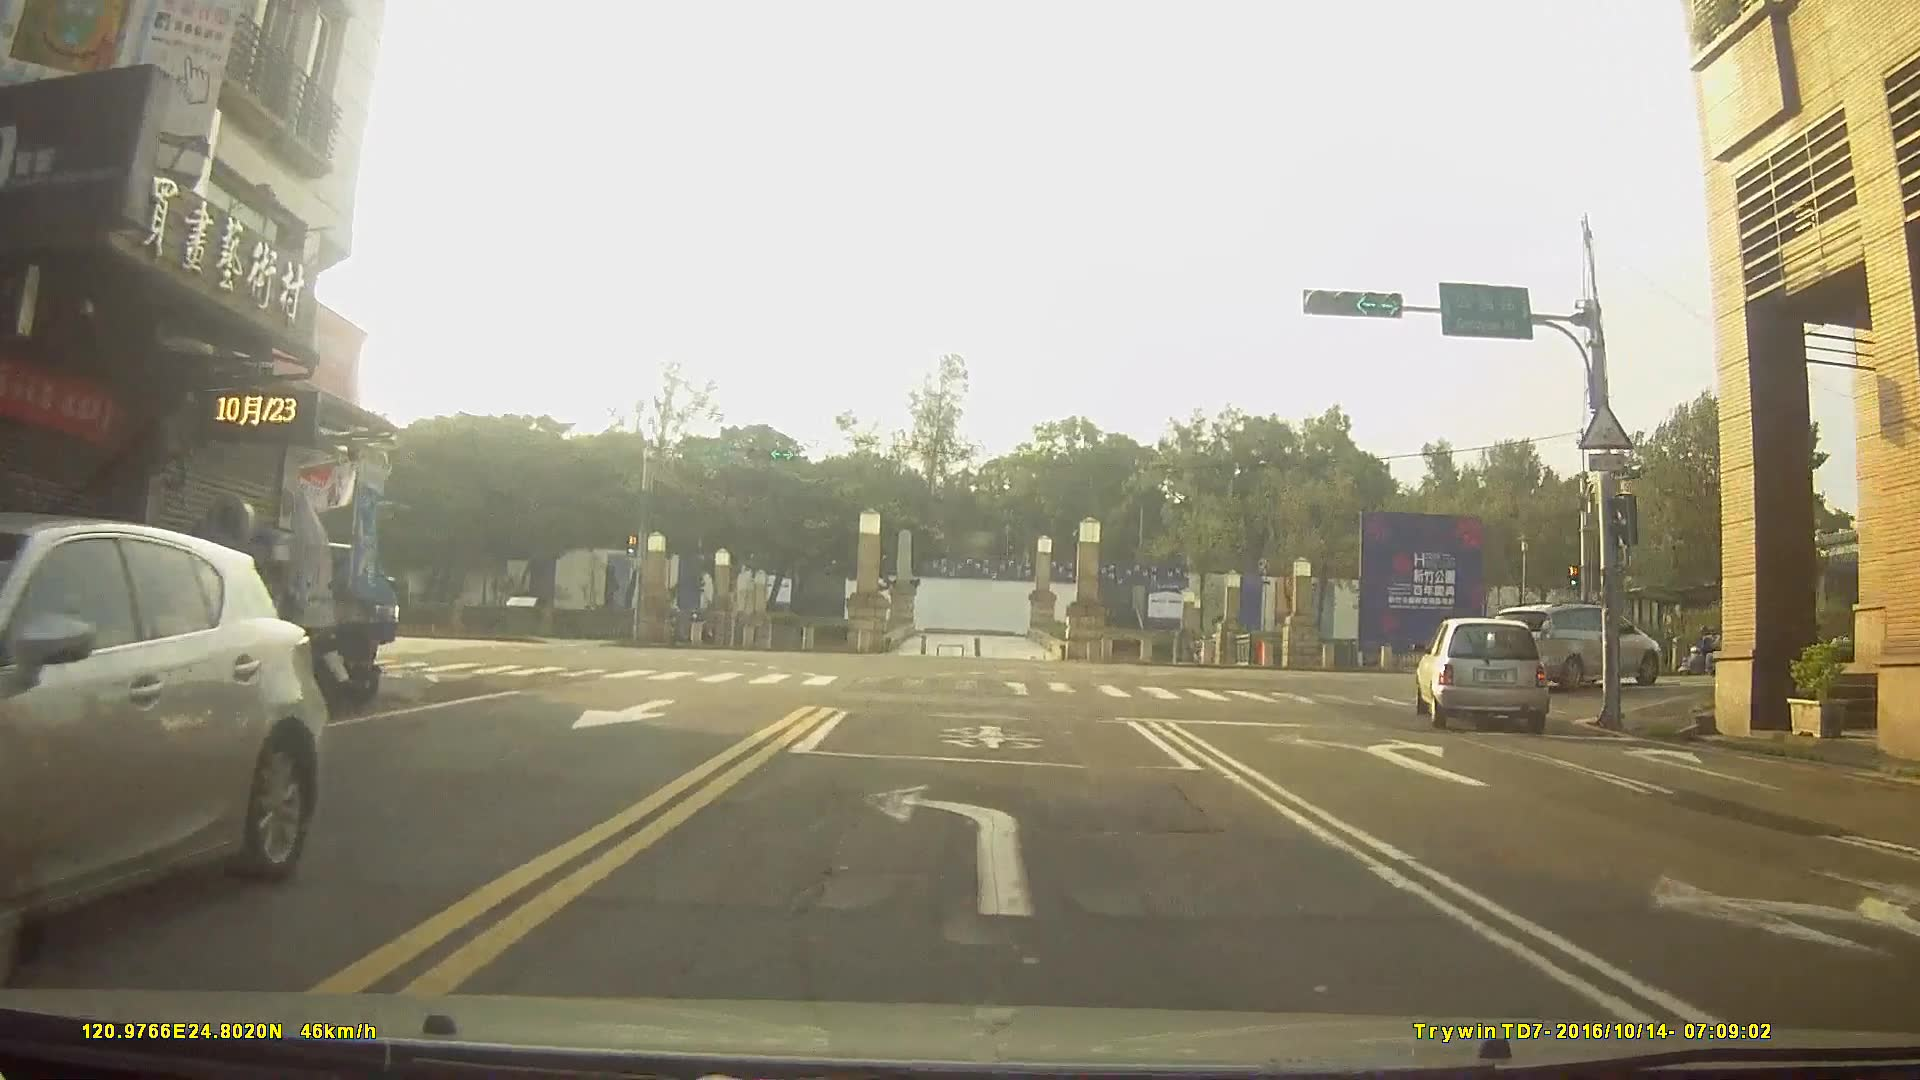vehicle: (0, 512, 328, 953), (1415, 616, 1552, 732), (1493, 603, 1663, 692)
